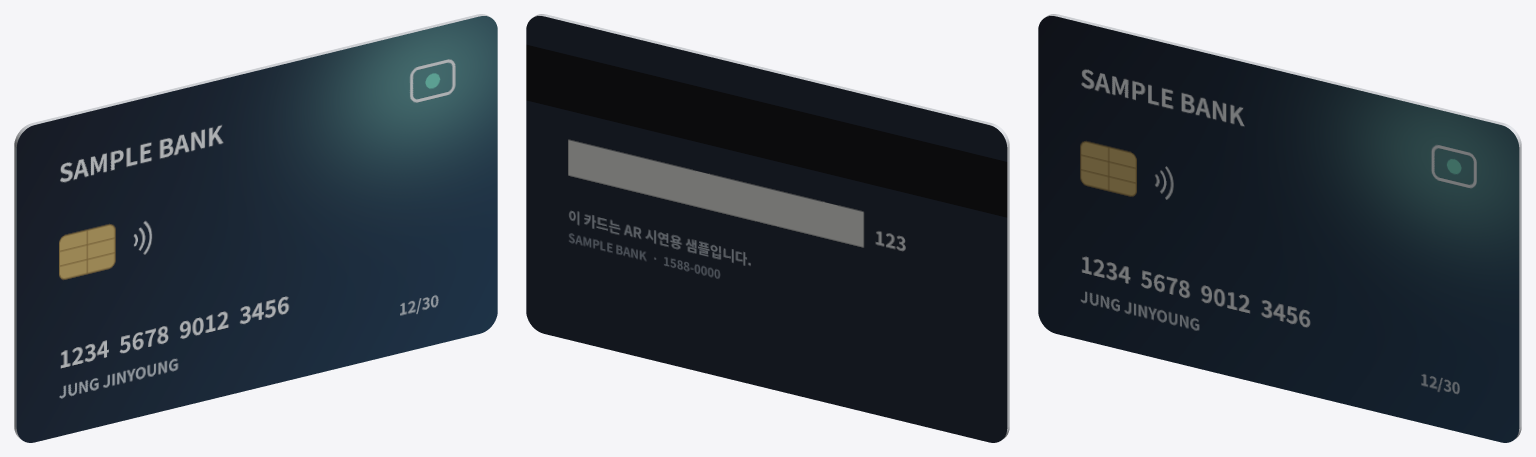
The model's file is card.glb.
3 views of the same model, side by side, from view 1: azimuth 30°, elevation 25°; view 2: azimuth 150°, elevation 25°; view 3: azimuth 330°, elevation 25° (orthographic).
Parts seen in each view (by area): view 1: front, edge; view 2: back, edge; view 3: front, edge.
Part boxes in pixels (x1=…): front: x1=16, y1=16, x2=497, y2=442; edge: x1=14, y1=14, x2=489, y2=438; back: x1=526, y1=16, x2=1007, y2=442; edge: x1=534, y1=14, x2=1009, y2=438; front: x1=1038, y1=16, x2=1519, y2=442; edge: x1=1046, y1=14, x2=1521, y2=438.
Size of the model in its own units: 0.0856 by 0.054 by 0.0008.
3 materials, 2 textured.
